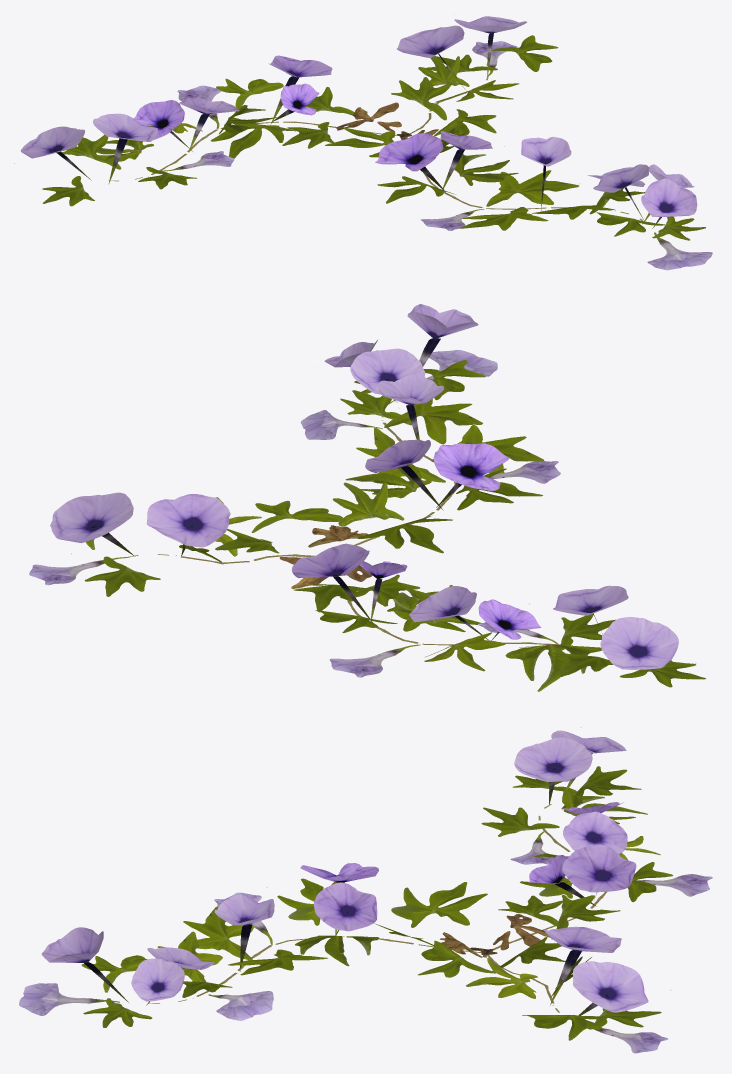
File: plant_01.fbx
3 renders of one model, top to bottom at view 1: azimuth 30°, elevation 25°; view 2: azimuth 150°, elevation 25°; view 3: azimuth 270°, elevation 25°, orthographic. The views are drawn at different scales.
Parts seen in each view (by area): view 1: _f4c5_Var1_LOD1; view 2: _f4c5_Var1_LOD1; view 3: _f4c5_Var1_LOD1.
Boxes of the visible parts, bbox=[...] form: _f4c5_Var1_LOD1: bbox=[14, 16, 712, 270]; _f4c5_Var1_LOD1: bbox=[29, 304, 705, 691]; _f4c5_Var1_LOD1: bbox=[19, 727, 712, 1053].
Bounding box in the file's own units: 54.18 × 6.39 × 53.24.
